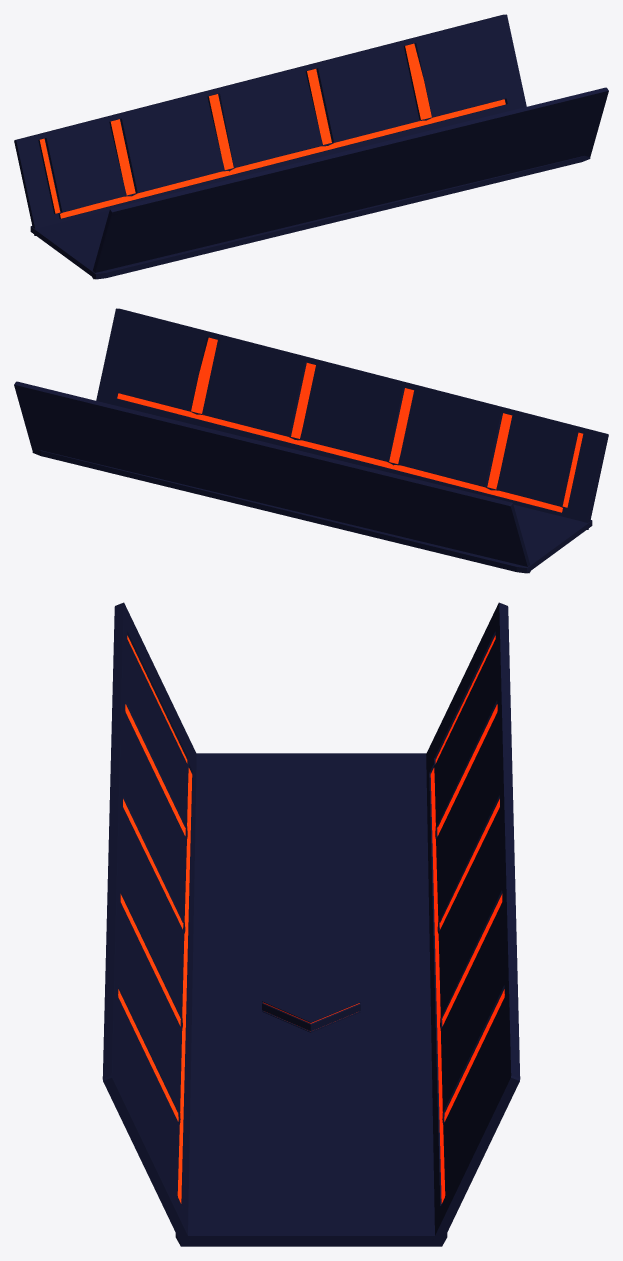
File: scifi_background.glb
3 renders of one model, top to bottom at view 1: azimuth 30°, elevation 25°; view 2: azimuth 150°, elevation 25°; view 3: azimuth 270°, elevation 25°, orthographic. The views are drawn at different scales.
Parts seen in each view (by area): view 1: Wall_2, Base_0; view 2: Wall_2, Base_0; view 3: Base_0, Wall_2, Table_4.
Boxes of the visible parts, x1,y1,x2,y2 form: Wall_2: (14, 14, 608, 279); Base_0: (30, 155, 590, 279); Wall_2: (14, 308, 608, 573); Base_0: (32, 449, 592, 573); Base_0: (175, 753, 447, 1246); Wall_2: (102, 602, 520, 1244); Table_4: (262, 980, 360, 1032).
Bounding box in the file's own units: 32.4 × 5.44 × 11.84.
